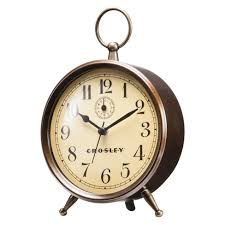alarm_clock: (35, 6, 193, 217), (35, 6, 186, 217), (37, 6, 186, 217)
